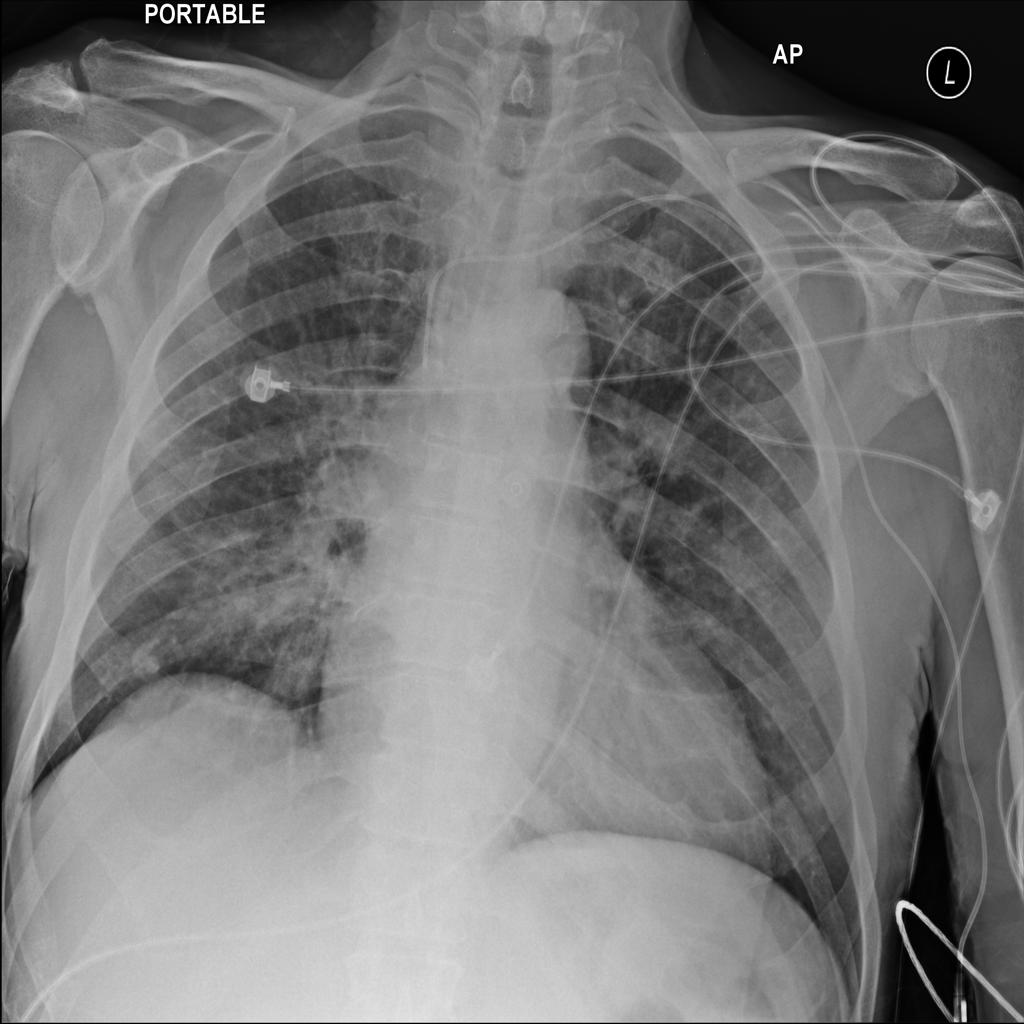nodule: (122, 637, 172, 688)
